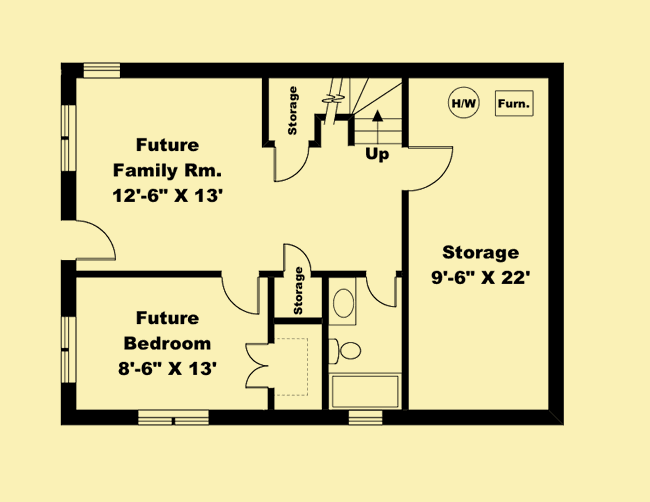door: (399, 145, 455, 193), (63, 217, 119, 262), (219, 269, 263, 315), (271, 139, 313, 185), (364, 268, 399, 310), (242, 342, 271, 390), (280, 240, 313, 277)
large_sink: (329, 336, 364, 371)
small_sink: (326, 278, 356, 329)
stairs: (322, 77, 405, 150)
tub: (327, 371, 401, 411)
window: (60, 102, 80, 173), (59, 317, 79, 386), (135, 409, 209, 425), (82, 60, 125, 81), (349, 412, 385, 425)
